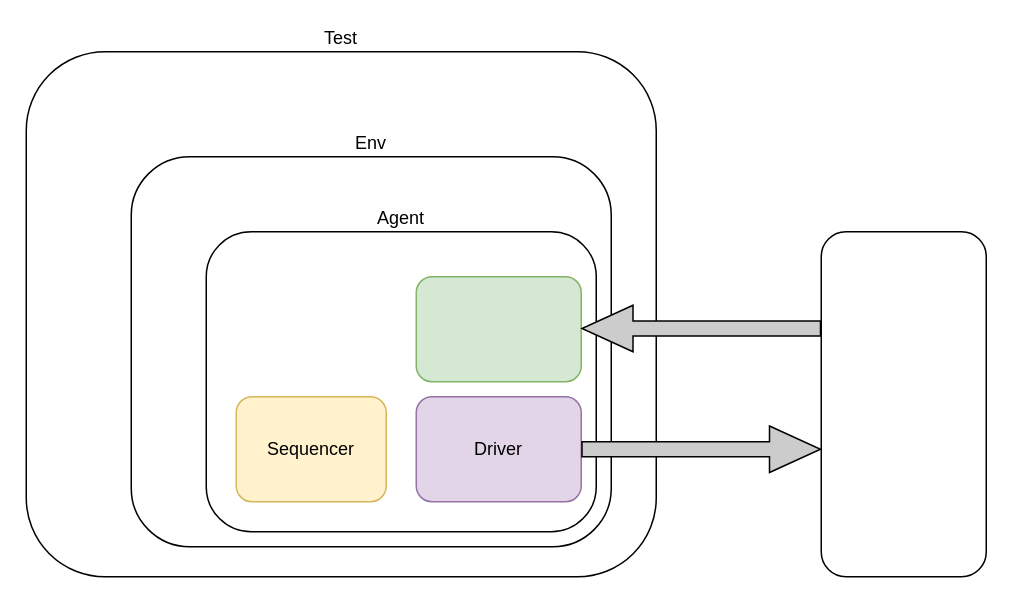
Some shapes in this 1013 by 603 pixel diagram are drawn without their labels. The centre of each missing label's shape, as x and y in pixels:
"DUT" goes at point (903, 403).
"Monitor" goes at point (498, 328).
